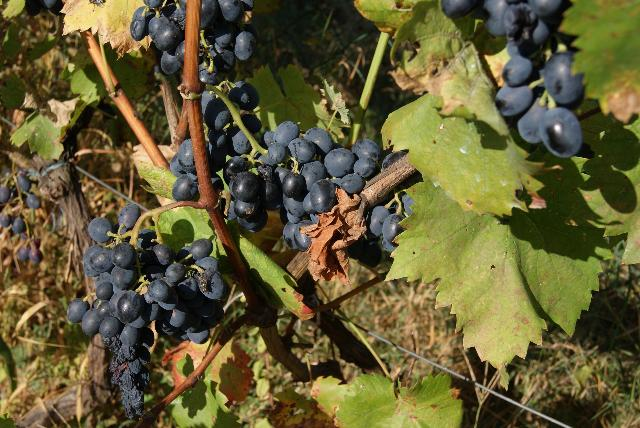grapes: (68, 204, 230, 419), (208, 120, 408, 251), (441, 0, 585, 159), (346, 188, 415, 268), (199, 0, 256, 86), (130, 0, 186, 75)
